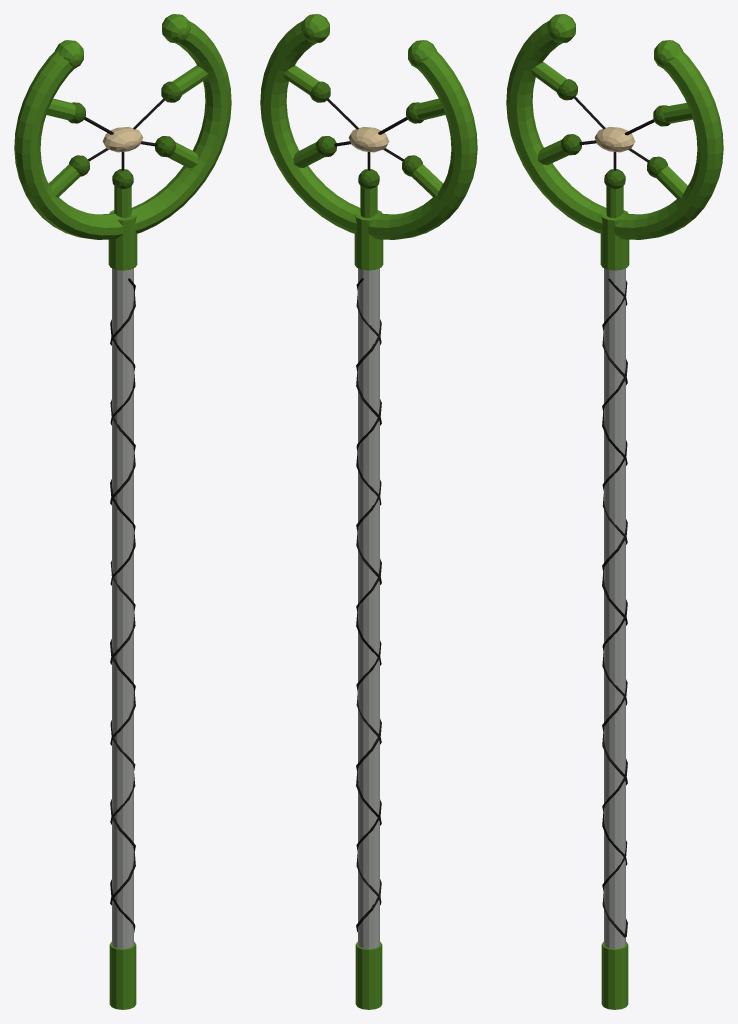
File: lance_pierre.fbx
3 views of the same model, side by side, from view 1: azimuth 30°, elevation 25°; view 2: azimuth 150°, elevation 25°; view 3: azimuth 330°, elevation 25° (orthographic).
Parts seen in each view (by area): view 1: Handle; view 2: Handle; view 3: Handle.
Part boxes in pixels (x1=…): Handle: x1=14, y1=14, x2=231, y2=1009; Handle: x1=260, y1=14, x2=477, y2=1009; Handle: x1=506, y1=14, x2=723, y2=1009.
Bounding box in the file's own units: 1.49 × 6.51 × 0.2.
Materials: 1 (1 with a texture image).
